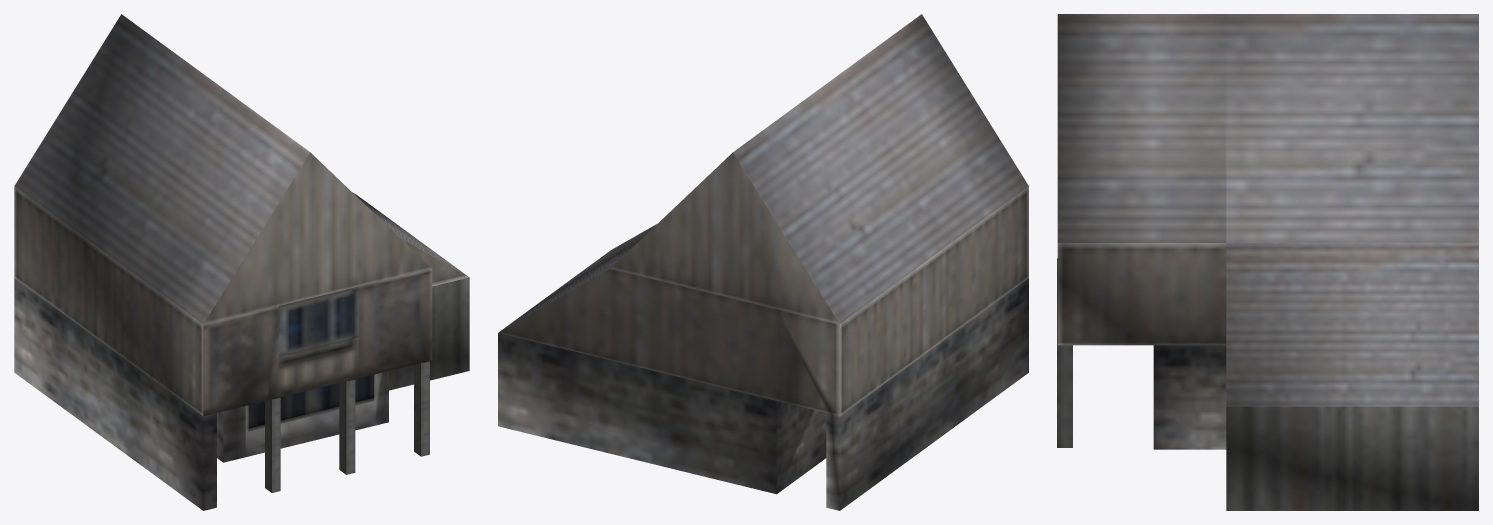
3 views of the same model, side by side, from view 1: azimuth 30°, elevation 25°; view 2: azimuth 150°, elevation 25°; view 3: azimuth 270°, elevation 25° (orthographic). The views are drawn at different scales.
Visible parts, largest first — view 1: U3DMesh; view 2: U3DMesh; view 3: U3DMesh.
Part boxes in pixels (left/top/right/bottom): U3DMesh: left=14, top=14, right=469, bottom=510; U3DMesh: left=498, top=14, right=1028, bottom=510; U3DMesh: left=1057, top=14, right=1478, bottom=510.
Size of the model in its own units: 453 by 421 by 435.
1 material, 1 textured.
